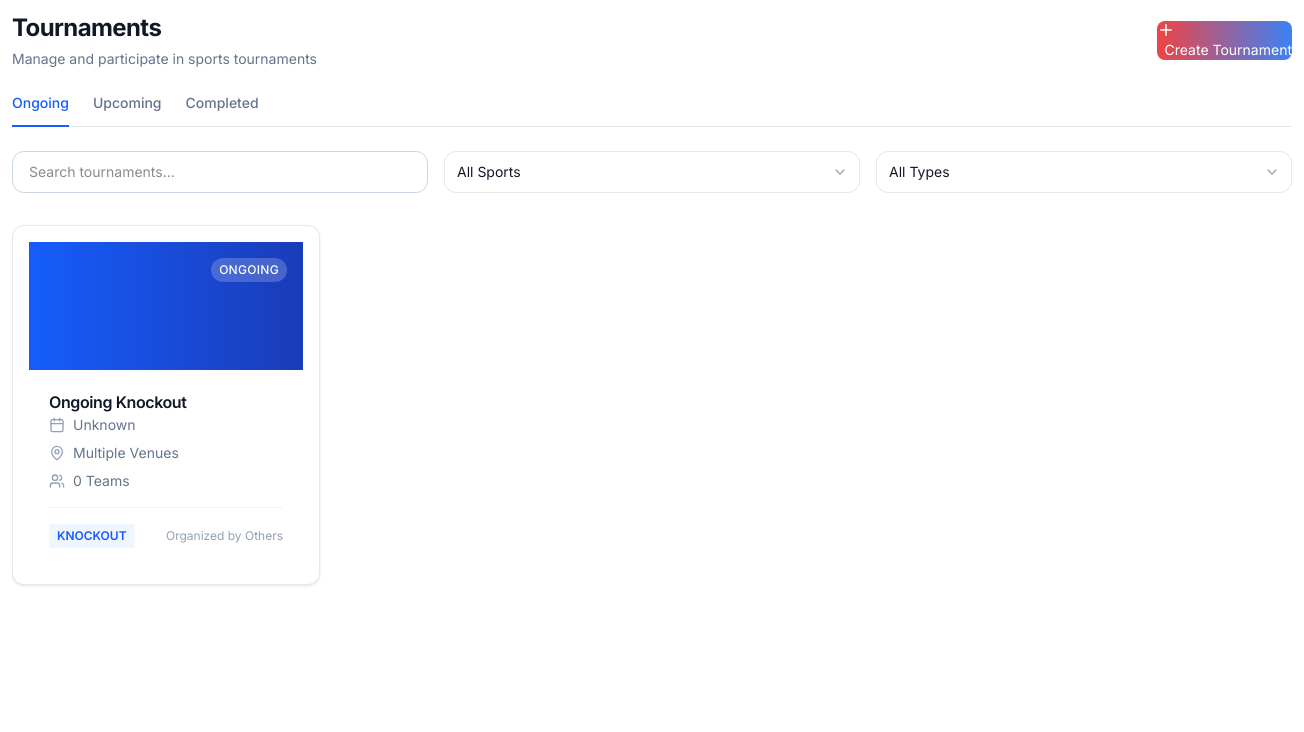
Test: TournamentListFilter › filters by Level
Switch to Upcoming to test City level
Click the button "Upcoming": (127, 110) [93,93,162,127]
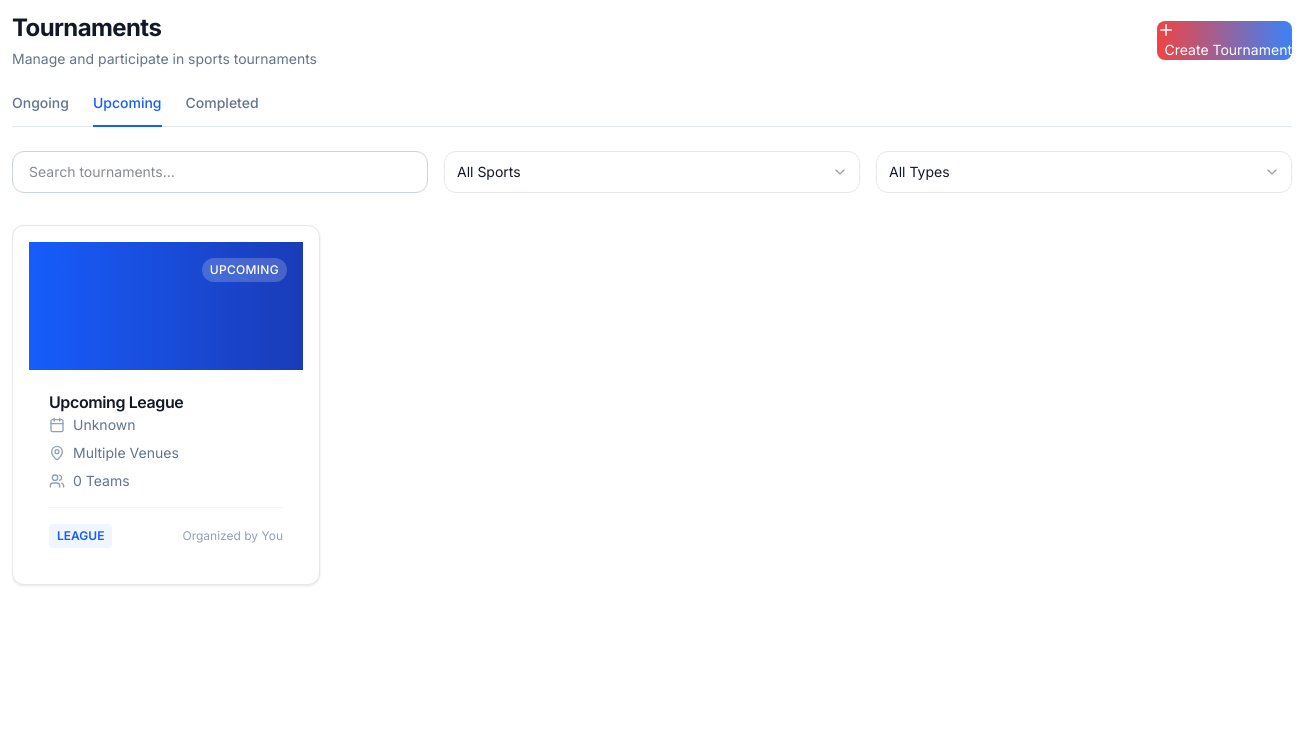
Filter by City
Select "City" in the 2nd dropdown: (1084, 172) [876,151,1292,193]
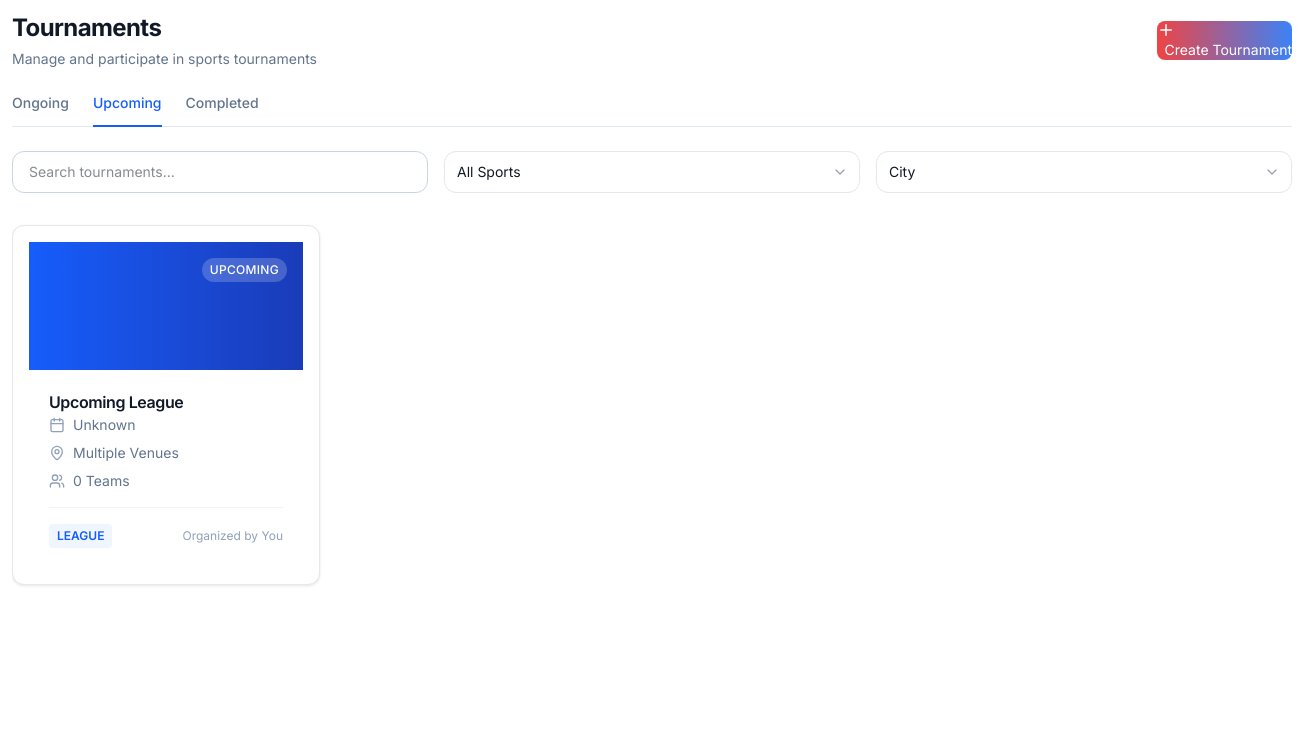
Expected: the heading "Upcoming League" is shown, [49,392,183,412]
Filter by State (should show empty in Upcoming tab)
Select "State" in the 2nd dropdown: (1084, 172) [876,151,1292,193]
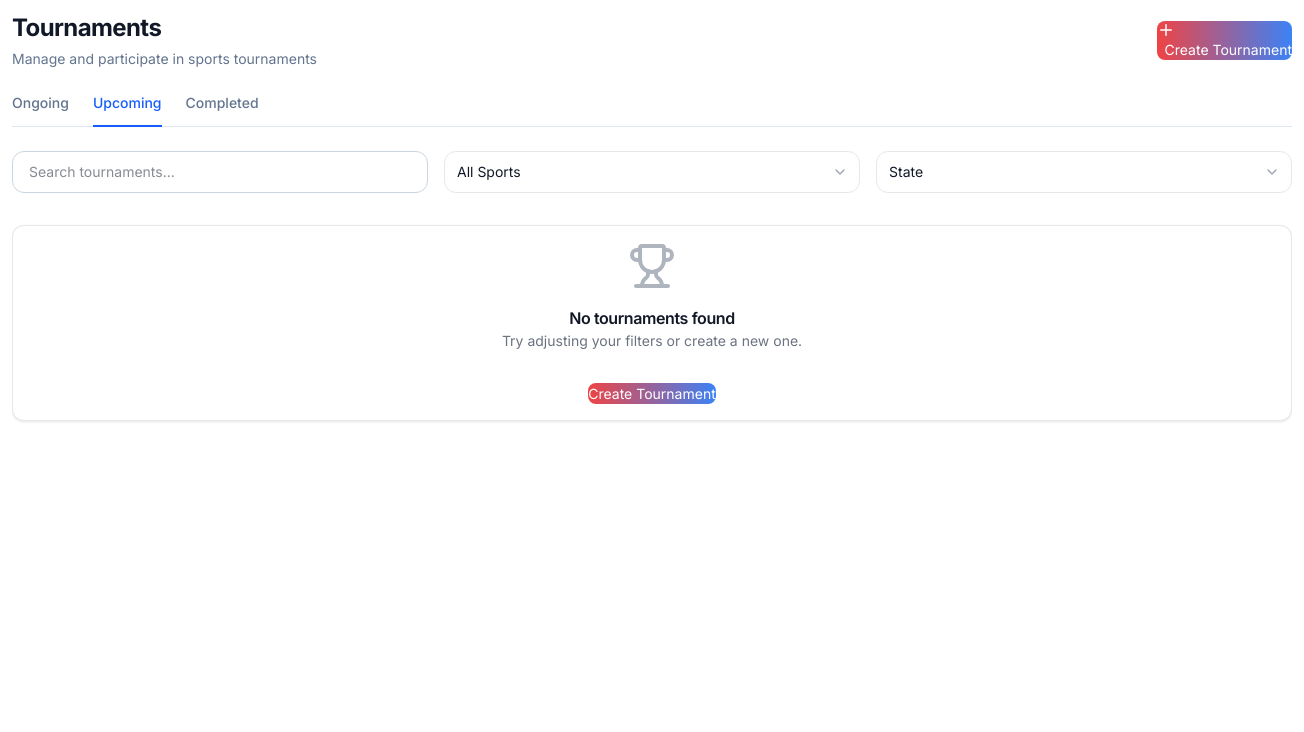
Expected: the heading "Upcoming League" is gone
